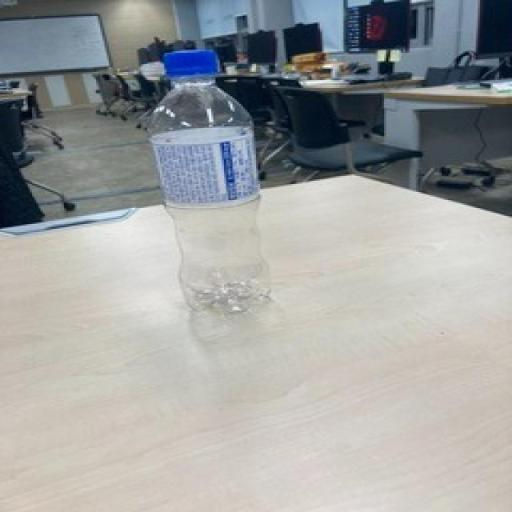plastic: (146, 45, 274, 318)
